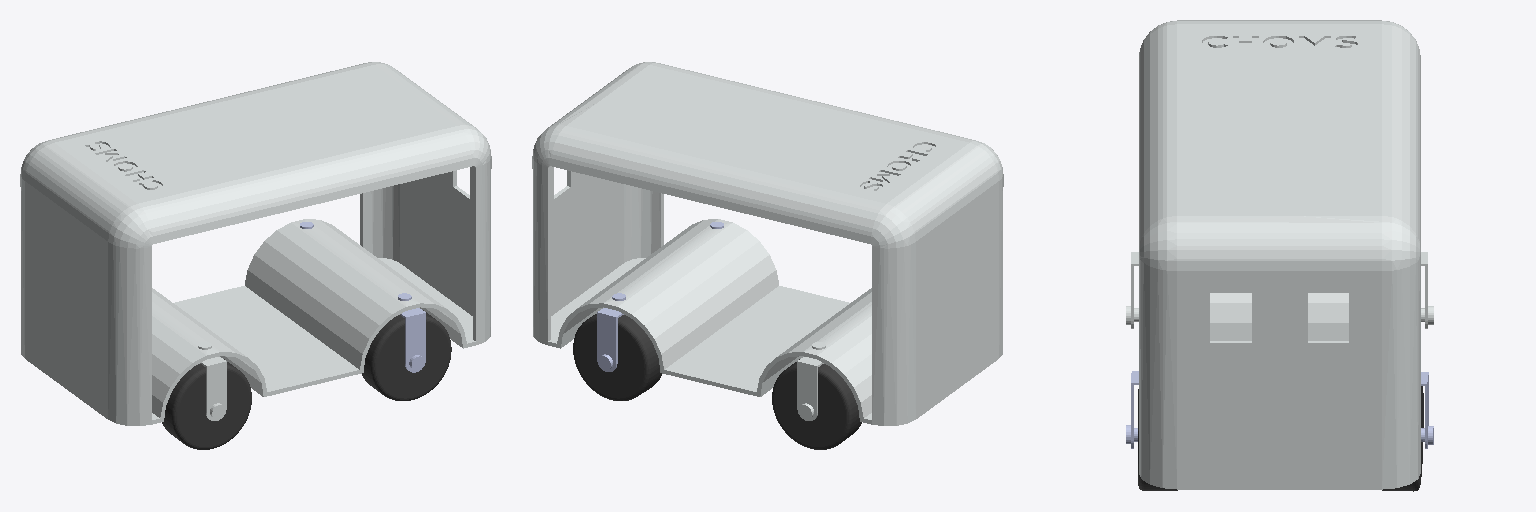
URDF robot description (CHOMS):
<?xml version="1.0" encoding="utf-8"?>
<!-- This URDF was automatically created by SolidWorks to URDF Exporter! Originally created by [author] ([email redacted]) 
     Commit Version: 1.6.0-4-g7f85cfe  Build Version: 1.6.7995.38578
     For more information, please see http://wiki.ros.org/sw_urdf_exporter -->
<robot
  name="CHOMS">
  
  <link name="base_link" />

  <joint name="base_link_to_chassis" type="fixed">
    <parent link="base_link"/>
    <child link="chassis"/>
  </joint>
  
  <link
    name="chassis">
    <inertial>
      <origin
        xyz="-0.00872584258156217 -8.73677904689174E-06 0.348841992462039"
        rpy="0 0 0" />
      <mass
        value="17.0500724051443" />
      <inertia
        ixx="1.05544103712001"
        ixy="-4.83008903298141E-05"
        ixz="0.00338970998222842"
        iyy="2.65078879681175"
        iyz="3.77265950026107E-05"
        izz="2.39161412207434" />
    </inertial>
    <visual>
      <origin
        xyz="0 0 0"
        rpy="0 0 0" />
      <geometry>
        <mesh
          filename="package://CHOMS/meshes/chassis.STL" />
      </geometry>
      <material
        name="">
        <color
          rgba="0.901960784313726 0.92156862745098 0.92156862745098 1" />
      </material>
    </visual>
    <collision>
      <origin
        xyz="0 0 0"
        rpy="0 0 0" />
      <geometry>
        <mesh
          filename="package://CHOMS/meshes/chassis.STL" />
      </geometry>
    </collision>
  </link>
  <link
    name="rightsteering">
    <inertial>
      <origin
        xyz="-0.000227047232786548 0.0457064740508882 0.0380993234789555"
        rpy="0 0 0" />
      <mass
        value="0.174755029943112" />
      <inertia
        ixx="0.000424029590737457"
        ixy="-8.25683025288843E-20"
        ixz="1.4633713357991E-06"
        iyy="0.000292188084095193"
        iyz="1.48564758924638E-19"
        izz="0.000178479459217897" />
    </inertial>
    <visual>
      <origin
        xyz="0 0 0"
        rpy="0 0 0" />
      <geometry>
        <mesh
          filename="package://CHOMS/meshes/rightsteering.STL" />
      </geometry>
      <material
        name="">
        <color
          rgba="0.792156862745098 0.819607843137255 0.933333333333333 1" />
      </material>
    </visual>
    <collision>
      <origin
        xyz="0 0 0"
        rpy="0 0 0" />
      <geometry>
        <mesh
          filename="package://CHOMS/meshes/rightsteering.STL" />
      </geometry>
    </collision>
  </link>
  <joint
    name="rightsteeringjoint"
    type="revolute">
    <origin
      xyz="0.25377 -0.254 0.1039"
      rpy="1.5708 0 3.1416" />
    <parent
      link="chassis" />
    <child
      link="rightsteering" />
    <axis
      xyz="0 1 0" />
    <limit
      lower="-0.5"
      upper="0.5"
      effort="30"
      velocity="100" />
  </joint>
  <link
    name="frontrightwheel">
    <inertial>
      <origin
        xyz="-0.000227047232786437 0 0.0380993234789554"
        rpy="0 0 0" />
      <mass
        value="2.4057031505395" />
      <inertia
        ixx="0.00738572832417625"
        ixy="1.46087584382073E-20"
        ixz="-3.03950167993716E-05"
        iyy="0.00738554718960942"
        iyz="-1.36650836825002E-18"
        izz="0.0124859378130737" />
    </inertial>
    <visual>
      <origin
        xyz="0 0 0"
        rpy="0 0 0" />
      <geometry>
        <mesh
          filename="package://CHOMS/meshes/frontrightwheel.STL" />
      </geometry>
      <material
        name="">
        <color
          rgba="0.294117647058824 0.294117647058824 0.294117647058824 1" />
      </material>
    </visual>
    <collision>
      <origin
        xyz="0 0 0"
        rpy="0 0 0" />
      <geometry>
        <mesh
          filename="package://CHOMS/meshes/frontrightwheel.STL" />
      </geometry>
    </collision>
  </link>
  <joint
    name="frontrightwheeljoint"
    type="continuous">
    <origin
      xyz="0 0 0"
      rpy="0 0 0" />
    <parent
      link="rightsteering" />
    <child
      link="frontrightwheel" />
    <axis
      xyz="0.00595924495502477 0 -0.999982243542137" />
  </joint>
  <link
    name="leftsteering">
    <inertial>
      <origin
        xyz="0.00182682919407662 0.0457064740508881 -0.0380561781462051"
        rpy="0 0 0" />
      <mass
        value="0.174755029943111" />
      <inertia
        ixx="0.000423473742577242"
        ixy="-1.10016906262855E-19"
        ixz="1.17609981436198E-05"
        iyy="0.000292188084095192"
        iyz="-9.94671909825137E-20"
        izz="0.000179035307378108" />
    </inertial>
    <visual>
      <origin
        xyz="0 0 0"
        rpy="0 0 0" />
      <geometry>
        <mesh
          filename="package://CHOMS/meshes/leftsteering.STL" />
      </geometry>
      <material
        name="">
        <color
          rgba="0.792156862745098 0.819607843137255 0.933333333333333 1" />
      </material>
    </visual>
    <collision>
      <origin
        xyz="0 0 0"
        rpy="0 0 0" />
      <geometry>
        <mesh
          filename="package://CHOMS/meshes/leftsteering.STL" />
      </geometry>
    </collision>
  </link>
  <joint
    name="leftsteeringjoint"
    type="revolute">
    <origin
      xyz="0.25583 0.25396 0.1039"
      rpy="1.5708 0 3.1416" />
    <parent
      link="chassis" />
    <child
      link="leftsteering" />
    <axis
      xyz="0 1 0" />
    <limit
      lower="-0.5"
      upper="0.5"
      effort="30"
      velocity="100" />
  </joint>
  <link
    name="frontleftwheel">
    <inertial>
      <origin
        xyz="0.00182682919407628 5.55111512312578E-17 -0.0380561781462048"
        rpy="0 0 0" />
      <mass
        value="2.4057031505395" />
      <inertia
        ixx="0.00739727359211625"
        ixy="1.02094696996403E-19"
        ixz="-0.0002442823140016"
        iyy="0.00738554718960941"
        iyz="1.03781340957124E-18"
        izz="0.0124743925451336" />
    </inertial>
    <visual>
      <origin
        xyz="0 0 0"
        rpy="0 0 0" />
      <geometry>
        <mesh
          filename="package://CHOMS/meshes/frontleftwheel.STL" />
      </geometry>
      <material
        name="">
        <color
          rgba="0.294117647058824 0.294117647058824 0.294117647058824 1" />
      </material>
    </visual>
    <collision>
      <origin
        xyz="0 0 0"
        rpy="0 0 0" />
      <geometry>
        <mesh
          filename="package://CHOMS/meshes/frontleftwheel.STL" />
      </geometry>
    </collision>
  </link>
  <joint
    name="frontleftwheeljoint"
    type="continuous">
    <origin
      xyz="0 0 0"
      rpy="0 0 0" />
    <parent
      link="leftsteering" />
    <child
      link="frontleftwheel" />
    <axis
      xyz="0.0562912463434586 0 -0.998414390714146" />
  </joint>
  <link
    name="rearrightwheel">
    <inertial>
      <origin
        xyz="0 5.55111512312578E-17 0.0381"
        rpy="0 0 0" />
      <mass
        value="2.4057031505395" />
      <inertia
        ixx="0.00738554718960941"
        ixy="-1.37830127619506E-19"
        ixz="-3.22719552903884E-21"
        iyy="0.00738554718960941"
        iyz="2.15146368602591E-21"
        izz="0.0124861189476405" />
    </inertial>
    <visual>
      <origin
        xyz="0 0 0"
        rpy="0 0 0" />
      <geometry>
        <mesh
          filename="package://CHOMS/meshes/rearrightwheel.STL" />
      </geometry>
      <material
        name="">
        <color
          rgba="0.294117647058824 0.294117647058824 0.294117647058824 1" />
      </material>
    </visual>
    <collision>
      <origin
        xyz="0 0 0"
        rpy="0 0 0" />
      <geometry>
        <mesh
          filename="package://CHOMS/meshes/rearrightwheel.STL" />
      </geometry>
    </collision>
  </link>
  <joint
    name="rearrightwheeljoint"
    type="continuous">
    <origin
      xyz="-0.254 -0.254 0.1039"
      rpy="1.5708 0 3.1416" />
    <parent
      link="chassis" />
    <child
      link="rearrightwheel" />
    <axis
      xyz="0 0 -1" />
  </joint>
  <link
    name="rearleftwheel">
    <inertial>
      <origin
        xyz="0 -5.55111512312578E-17 -0.0381"
        rpy="0 0 0" />
      <mass
        value="2.4057031505395" />
      <inertia
        ixx="0.00738554718960941"
        ixy="-7.19140170467313E-19"
        ixz="1.3436047786286E-19"
        iyy="0.00738554718960941"
        iyz="7.44614971272297E-22"
        izz="0.0124861189476405" />
    </inertial>
    <visual>
      <origin
        xyz="0 0 0"
        rpy="0 0 0" />
      <geometry>
        <mesh
          filename="package://CHOMS/meshes/rearleftwheel.STL" />
      </geometry>
      <material
        name="">
        <color
          rgba="0.294117647058824 0.294117647058824 0.294117647058824 1" />
      </material>
    </visual>
    <collision>
      <origin
        xyz="0 0 0"
        rpy="0 0 0" />
      <geometry>
        <mesh
          filename="package://CHOMS/meshes/rearleftwheel.STL" />
      </geometry>
    </collision>
  </link>
  <joint
    name="rearleftwheeljoint"
    type="continuous">
    <origin
      xyz="-0.254 0.254 0.1039"
      rpy="1.5707963267949 0 3.14159265358979" />
    <parent
      link="chassis" />
    <child
      link="rearleftwheel" />
    <axis
      xyz="0 0 -1" />
  </joint>

  <transmission name="leftsteertrans">
    <type>transmission_interface/SimpleTransmission</type>
    <joint name="leftsteeringjoint">
      <hardwareInterface>EffortJointInterface</hardwareInterface>
    </joint>
    <actuator name="leftsteermotor">
      <hardwareInterface>EffortJointInterface</hardwareInterface>
    </actuator>
  </transmission>

  <transmission name="rightsteertrans">
    <type>transmission_interface/SimpleTransmission</type>
    <joint name="rightsteeringjoint">
      <hardwareInterface>EffortJointInterface</hardwareInterface>
    </joint>
    <actuator name="rightsteermotor">
      <hardwareInterface>EffortJointInterface</hardwareInterface>
    </actuator>
  </transmission>

  <transmission name="rearrighttrans">
    <type>transmission_interface/SimpleTransmission</type>
    <joint name="rearrightwheeljoint">
      <hardwareInterface>VelocityJointInterface</hardwareInterface>
    </joint>
    <actuator name="rearrightmotor">
      <hardwareInterface>VelocityJointInterface</hardwareInterface>
    </actuator>
  </transmission>

  <transmission name="rearlefttrans">
    <type>transmission_interface/SimpleTransmission</type>
    <joint name="rearleftwheeljoint">
      <hardwareInterface>VelocityJointInterface</hardwareInterface>
    </joint>
    <actuator name="rearleftmotor">
      <hardwareInterface>VelocityJointInterface</hardwareInterface>
    </actuator>
  </transmission>
</robot>

--- Render facts (derived) ---
The picture shows the robot from 3 angles, left to right: view 1: azimuth 30°, elevation 25°; view 2: azimuth 150°, elevation 25°; view 3: azimuth 270°, elevation 25°; orthographic projection.
Robot: CHOMS — 8 links, 7 joints (2 revolute, 4 continuous, 1 fixed); root link base_link; default pose: all joints at 0.
Visible links, largest first — view 1: chassis, frontrightwheel, rearrightwheel, rightsteering; view 2: chassis, rearleftwheel, frontleftwheel, leftsteering; view 3: chassis.
Boxes of the visible links, x1,y1,x2,y2 form: chassis: [20, 62, 491, 425]; frontrightwheel: [362, 310, 451, 400]; rearrightwheel: [162, 359, 251, 449]; rightsteering: [398, 293, 425, 372]; chassis: [532, 62, 1003, 425]; rearleftwheel: [772, 359, 861, 449]; frontleftwheel: [573, 314, 661, 400]; leftsteering: [597, 293, 625, 371]; chassis: [1126, 20, 1433, 489].
Bounding box of the posed robot: 0.9652 × 0.5544 × 0.6073 m (x, y, z).
Meshes: 7 distinct files referenced, 7 mesh visuals loaded (7 binary STL).